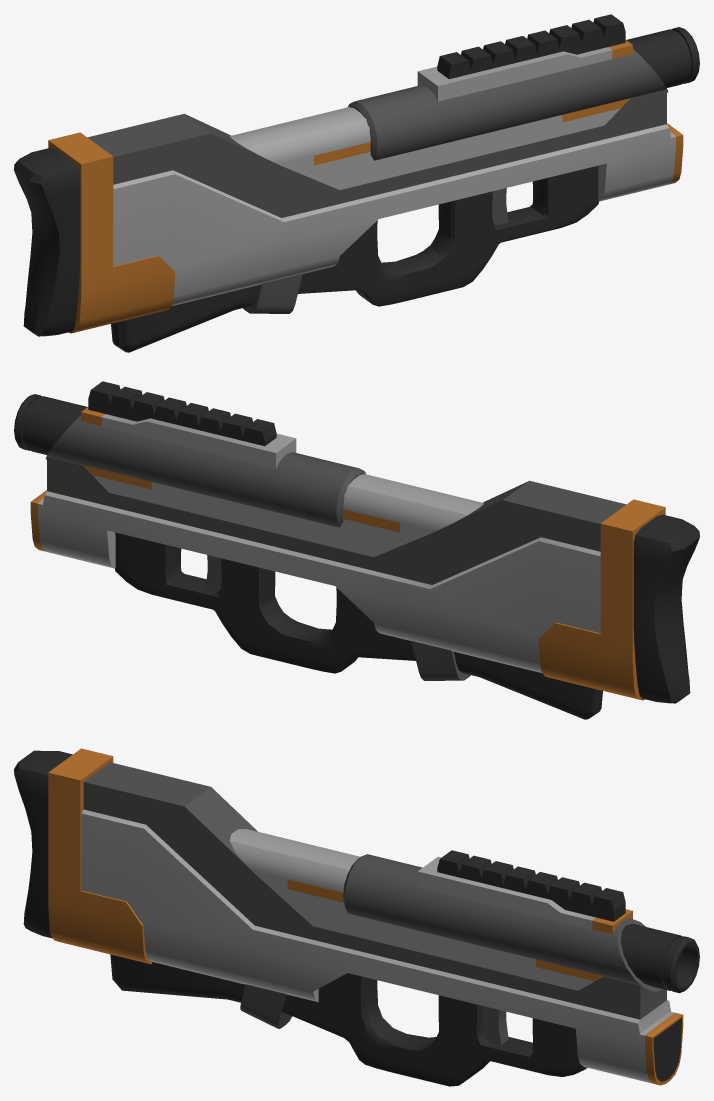
Rendered from Grenade_3.glb.
3 views of the same model, one above another, from view 1: azimuth 30°, elevation 25°; view 2: azimuth 150°, elevation 25°; view 3: azimuth 330°, elevation 25° (orthographic).
Parts seen in each view (by area): view 1: Grenade_3; view 2: Grenade_3; view 3: Grenade_3.
Part boxes in pixels (x1,y1,x2,y2): Grenade_3: (14,14,699,352); Grenade_3: (14,381,699,719); Grenade_3: (14,748,699,1086).
Size of the model in its own units: 1.69 by 0.5475 by 0.1459.
